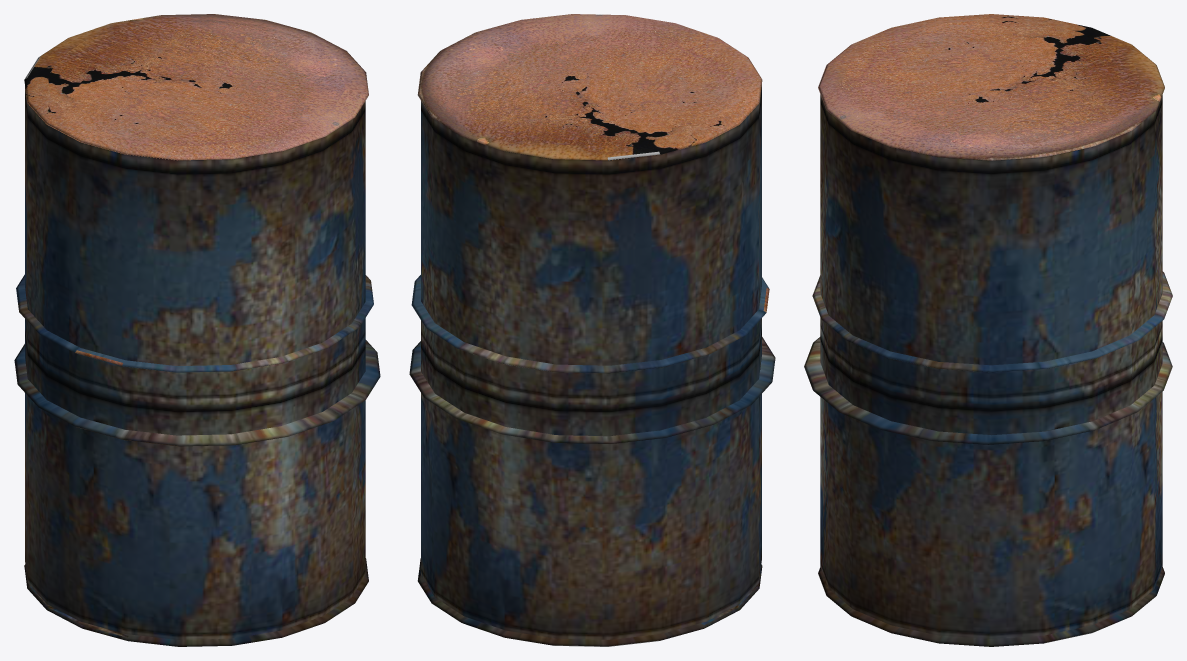
File: barrel.fbx
3 views of the same model, side by side, from view 1: azimuth 30°, elevation 25°; view 2: azimuth 150°, elevation 25°; view 3: azimuth 270°, elevation 25° (orthographic).
Parts seen in each view (by area): view 1: polySurface1; view 2: polySurface1; view 3: polySurface1.
Part boxes in pixels (x1,y1,x2,y2): polySurface1: (14, 14, 380, 646); polySurface1: (409, 14, 775, 646); polySurface1: (804, 14, 1172, 646).
Size of the model in its own units: 3.52 by 5.24 by 3.54.
